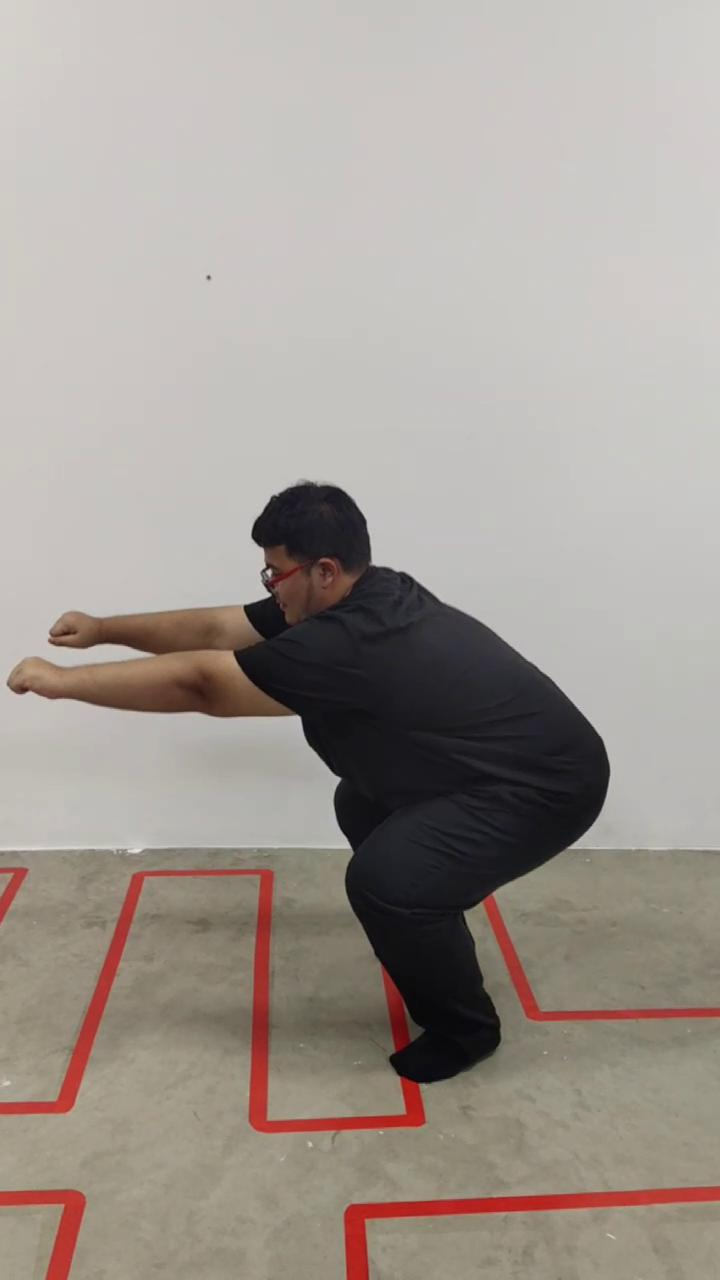squat down: (16, 481, 610, 1083)
